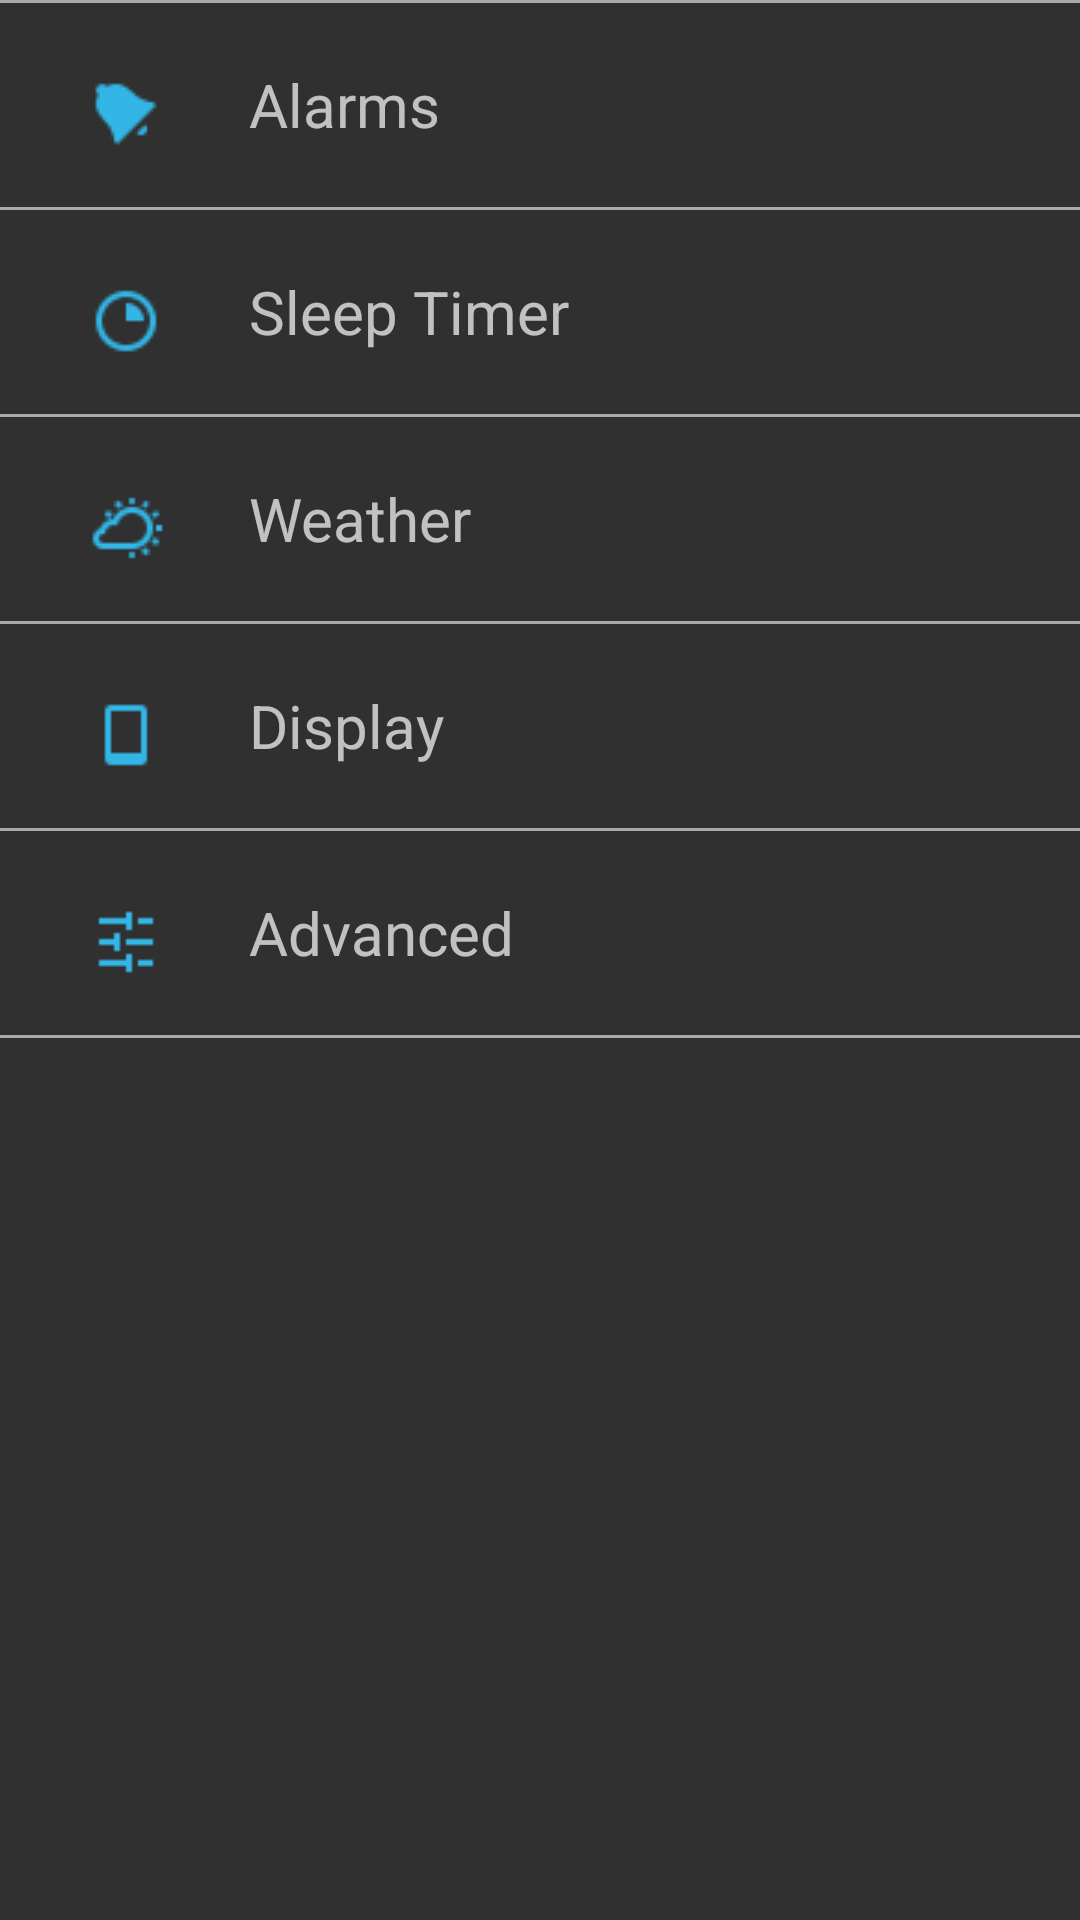

Icons on this 1080 × 1920 Android screen, each with its box as (x1, y1, x2, y2):
bar alarm: (95, 83, 157, 145)
bar timer: (95, 290, 157, 352)
